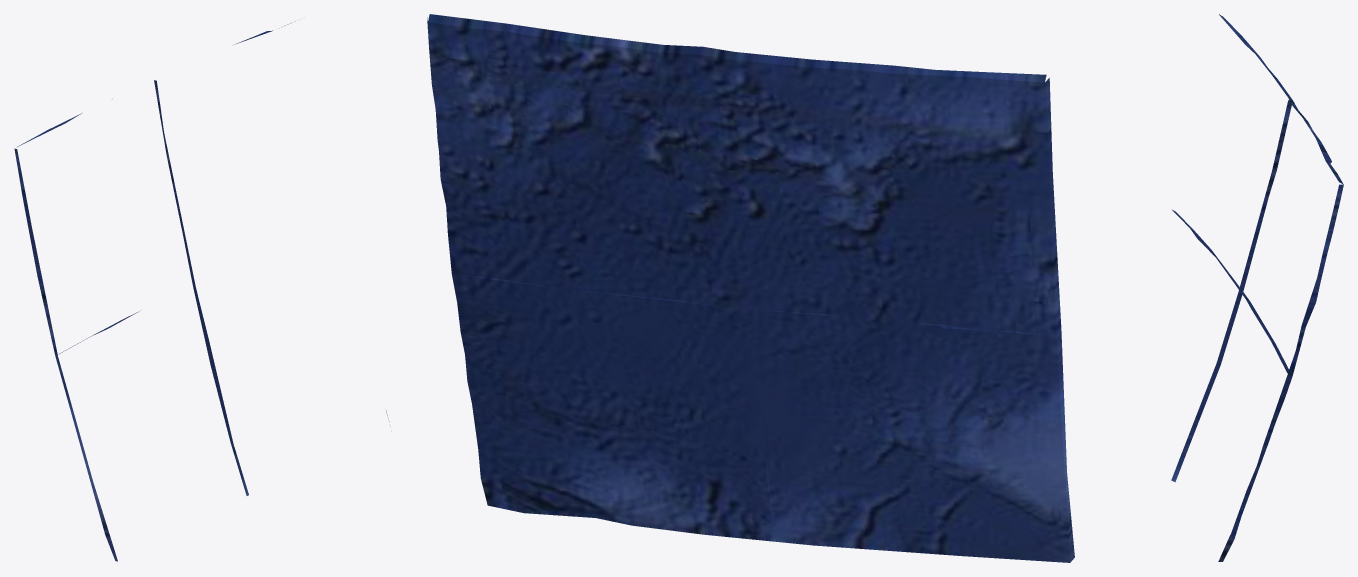
3 renders of one model, left to right at view 1: azimuth 30°, elevation 25°; view 2: azimuth 150°, elevation 25°; view 3: azimuth 270°, elevation 25°, orthographic. The views are drawn at different scales.
Size of the model in its own units: 1257481 by 1208032 by 710322.
Materials: 1 (1 with a texture image).
